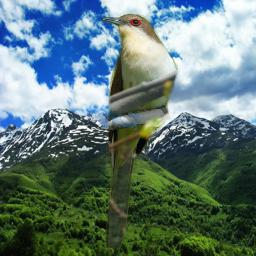Cuckoo: (100, 13, 180, 248)
